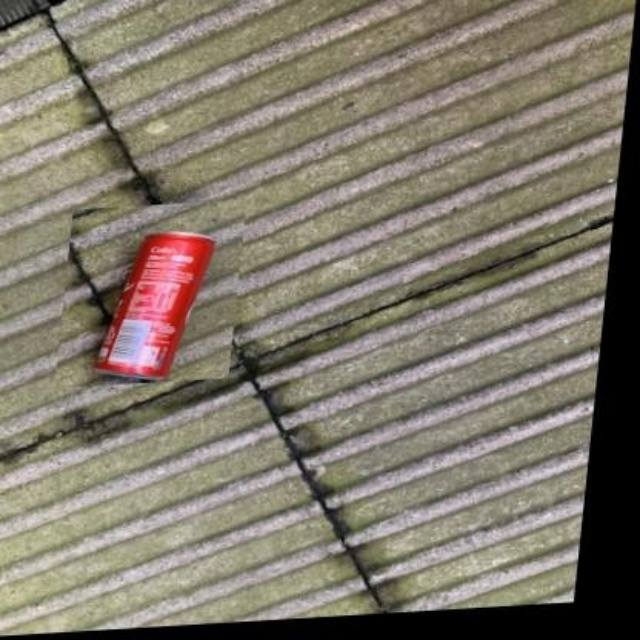trash: (97, 232, 214, 378)
